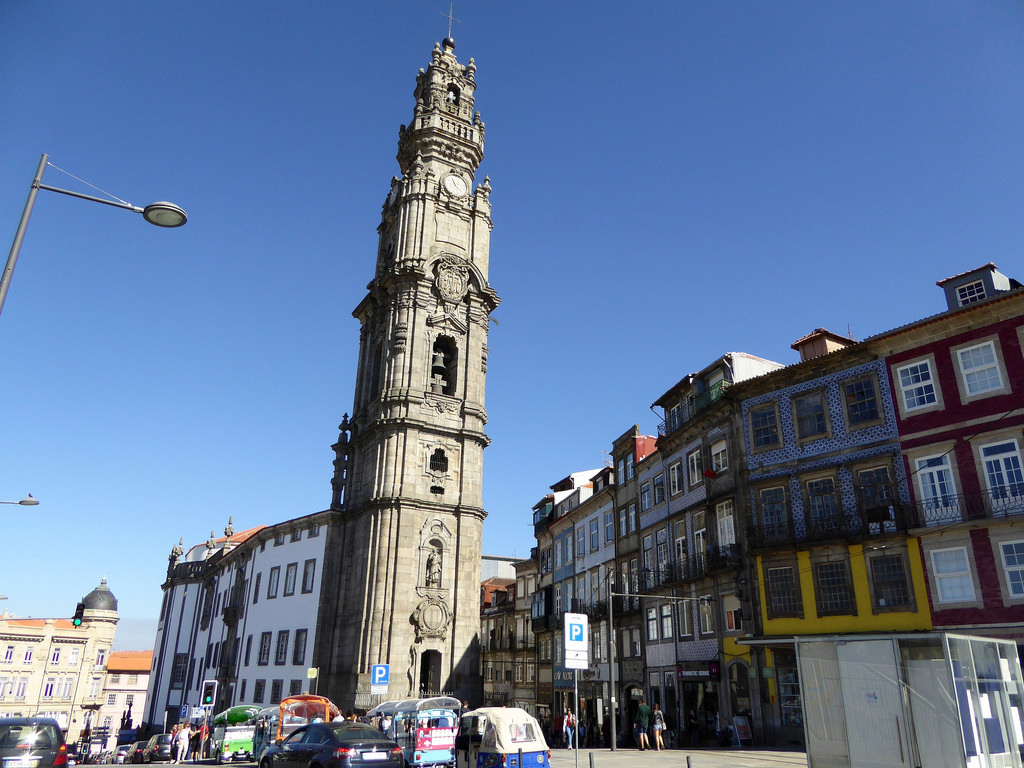clerigos: (313, 0, 508, 720)
